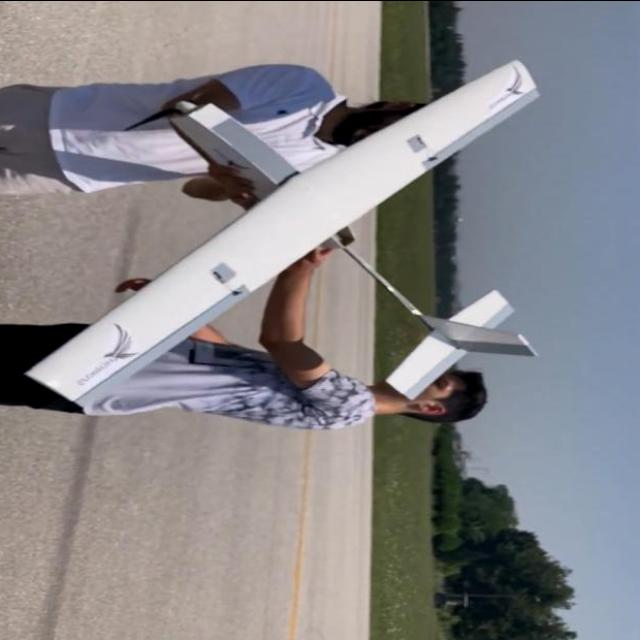plane: (24, 58, 543, 411)
